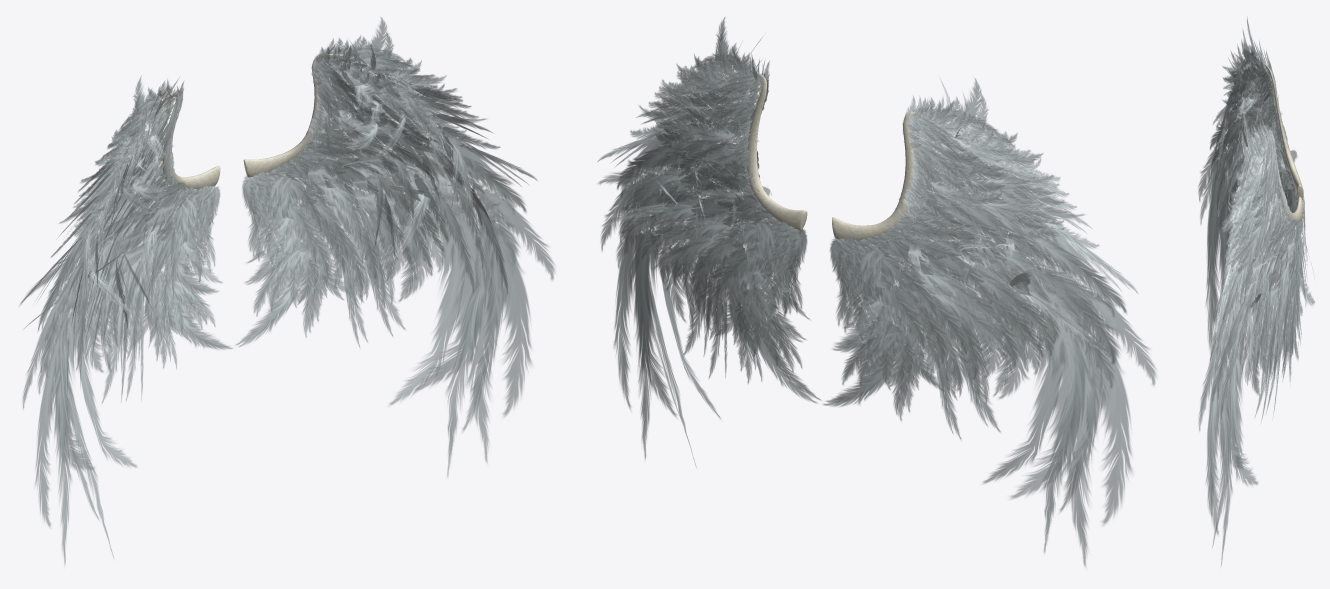
File: FRAGMENT_ASCENSION.glb
3 renders of one model, left to right at view 1: azimuth 30°, elevation 25°; view 2: azimuth 150°, elevation 25°; view 3: azimuth 270°, elevation 25°, orthographic. The views are drawn at different scales.
Parts seen in each view (by area): view 1: Object_3, Object_4; view 2: Object_3, Object_4; view 3: Object_3, Object_4.
Part boxes in pixels (left/top/right/bottom): Object_3: left=19, top=17, right=555, bottom=565; Object_4: left=161, top=54, right=345, bottom=189; Object_3: left=597, top=17, right=1156, bottom=567; Object_4: left=747, top=70, right=925, bottom=241; Object_3: left=1198, top=17, right=1314, bottom=566; Object_4: left=1261, top=61, right=1303, bottom=224.
Size of the model in its own units: 2.63 by 2.16 by 0.5714.
2 materials, 2 textured.
